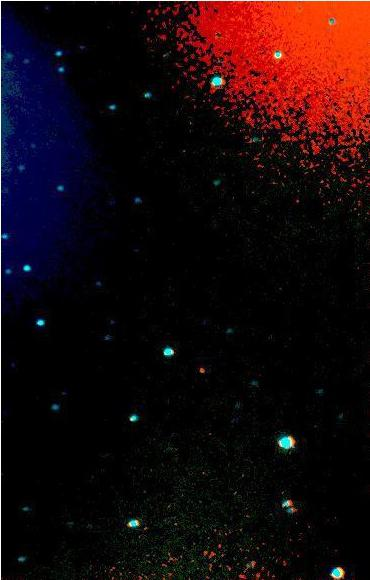star: (187, 355, 217, 385)
